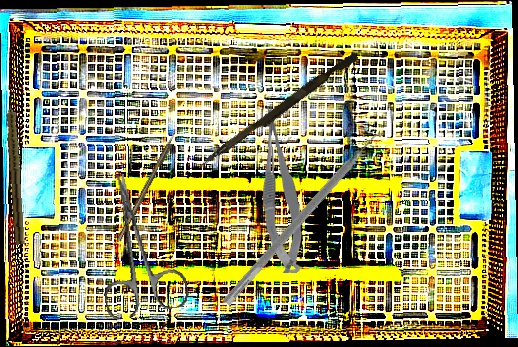Handpiece: (4, 94, 28, 245)
Hook Surgical: (115, 127, 181, 243)
Iris Scissors: (82, 166, 191, 321)
Micro Scissor: (259, 105, 304, 274)
Pusher: (197, 48, 359, 175)
Spatula Surgical: (222, 123, 391, 314)
